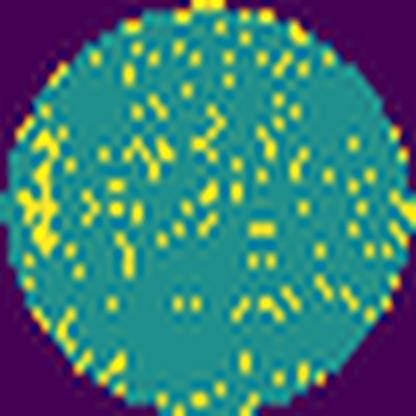Loc: (22, 134, 66, 252)
